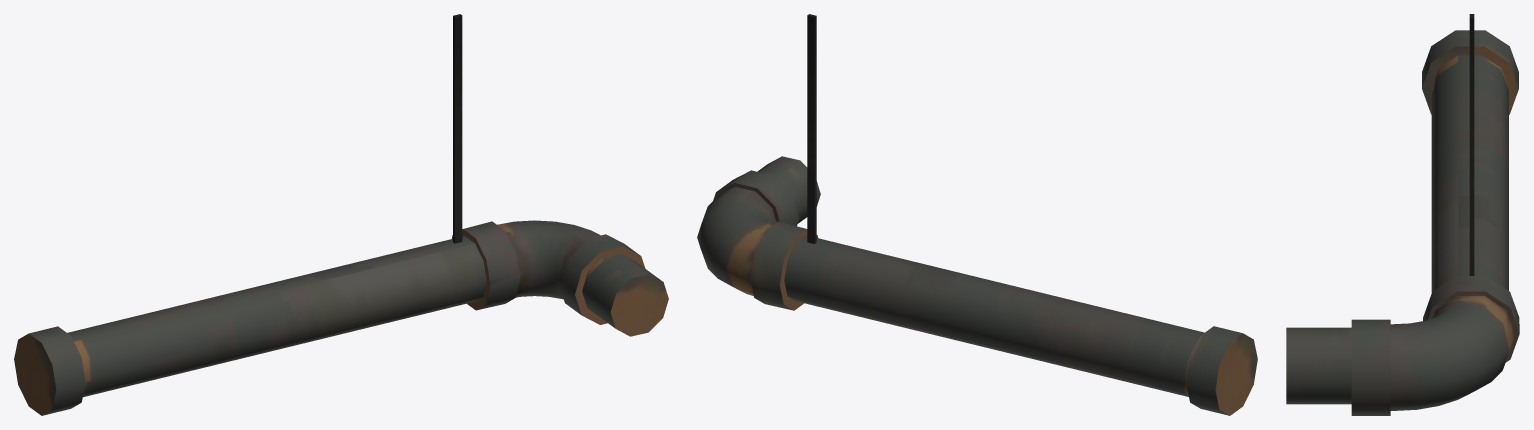
3 views of the same model, side by side, from view 1: azimuth 30°, elevation 25°; view 2: azimuth 150°, elevation 25°; view 3: azimuth 270°, elevation 25° (orthographic). The views are drawn at different scales.
Parts seen in each view (by area): view 1: body0_model0_lod0_mesh0; view 2: body0_model0_lod0_mesh0; view 3: body0_model0_lod0_mesh0.
Boxes of the visible parts, x1,y1,x2,y2 form: body0_model0_lod0_mesh0: (14,14,668,415); body0_model0_lod0_mesh0: (697,14,1257,415); body0_model0_lod0_mesh0: (1286,14,1519,415).
Bounding box in the file's own units: 38.28 × 19.11 × 12.02.
Materials: 1 (1 with a texture image).
